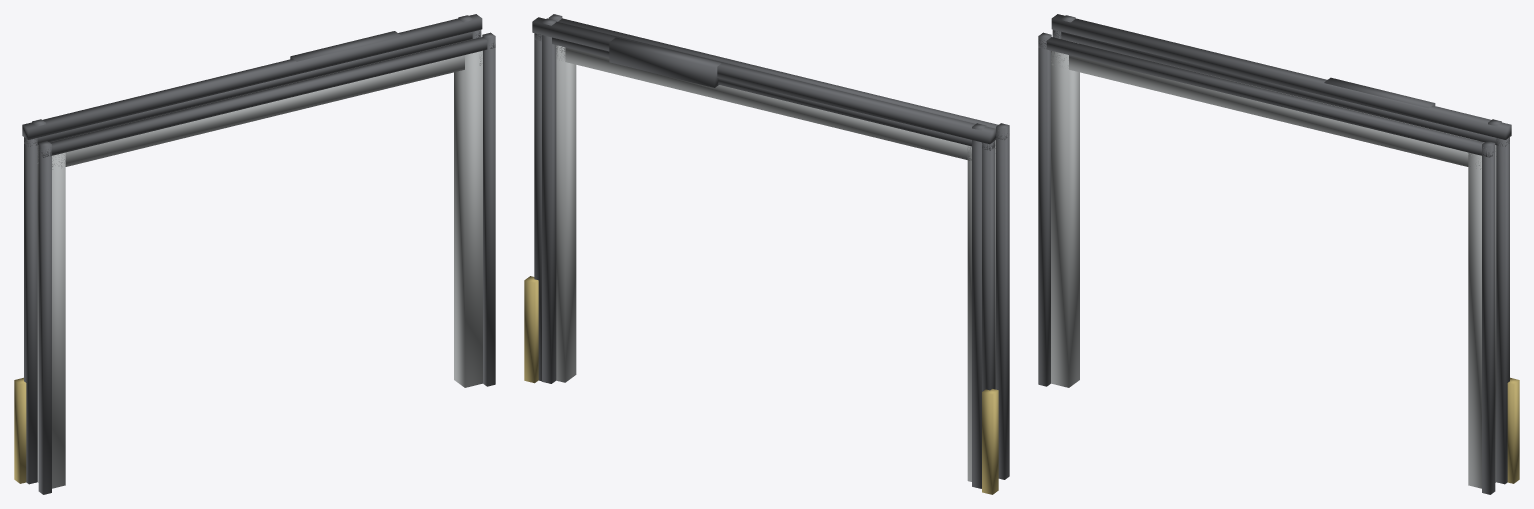
Rendered from bay_opening_loading_bay_w420_h320_d20.glb.
The picture shows the model from 3 angles, left to right: view 1: azimuth 30°, elevation 25°; view 2: azimuth 150°, elevation 25°; view 3: azimuth 330°, elevation 25°; orthographic projection.
Parts seen in each view (by area): view 1: world; view 2: world; view 3: world.
Boxes of the visible parts, x1,y1,x2,y2 form: world: (14, 14, 495, 494); world: (524, 14, 1009, 494); world: (1038, 14, 1519, 494).
Bounding box in the file's own units: 4.89 × 3.59 × 0.422.
